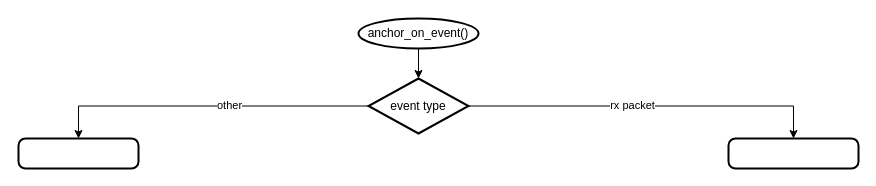
Some shapes in this 876 by 186 pixel diagram are drawn without their labels. The centre of each missing label's shape, as x and y in pixels:
handle_rx_packet(): [793,153]
start_next_event(): [78,153]
